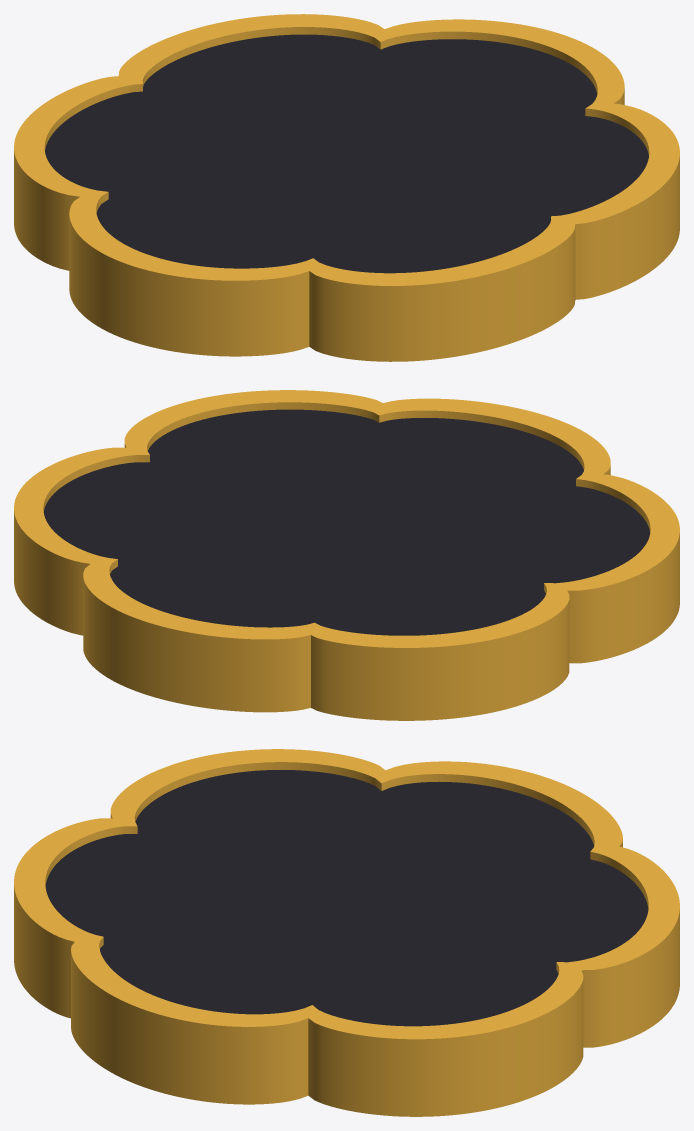
File: KumoGuard.fbx
3 renders of one model, top to bottom at view 1: azimuth 30°, elevation 25°; view 2: azimuth 150°, elevation 25°; view 3: azimuth 270°, elevation 25°, orthographic. The views are drawn at different scales.
Visible parts, largest first — view 1: KumoCore, KumoRim; view 2: KumoCore, KumoRim; view 3: KumoCore, KumoRim.
Part boxes in pixels (bbox=[...]): KumoCore: bbox=[45, 34, 648, 273]; KumoRim: bbox=[14, 14, 679, 361]; KumoCore: bbox=[43, 409, 650, 635]; KumoRim: bbox=[14, 390, 679, 720]; KumoCore: bbox=[45, 770, 648, 1026]; KumoRim: bbox=[14, 749, 679, 1116].
Bounding box in the file's own units: 0.4811 × 0.06 × 0.4666.
